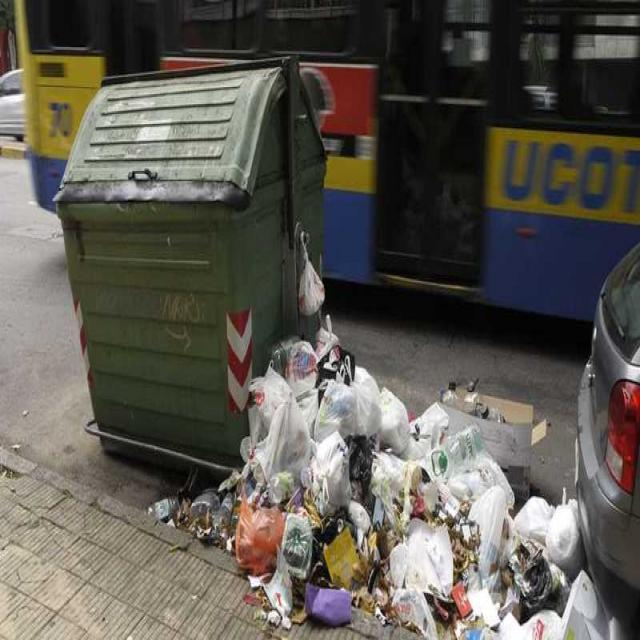high trash: (150, 319, 619, 640)
